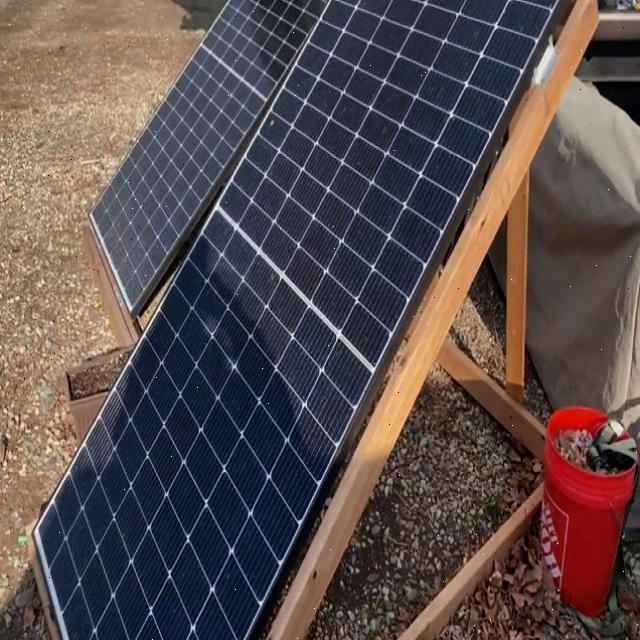Normal Solar Panel: (34, 0, 566, 640), (91, 0, 325, 316)
